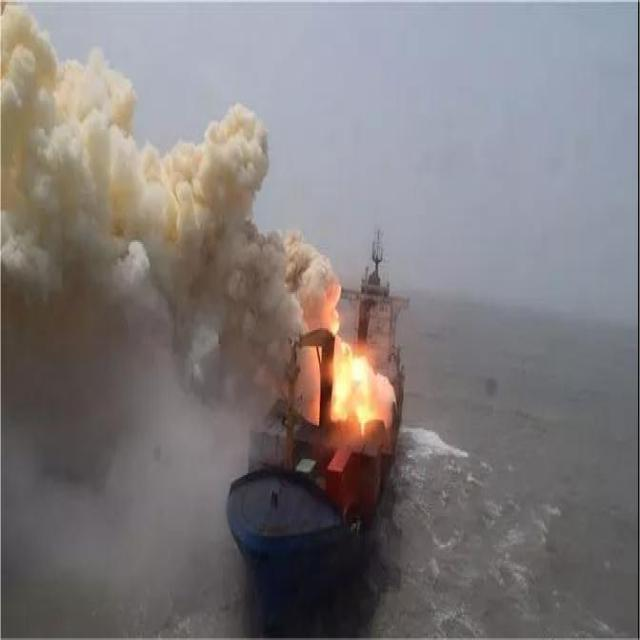Fire: (334, 351, 372, 416)
Smoke: (0, 0, 316, 482), (317, 248, 343, 328)
